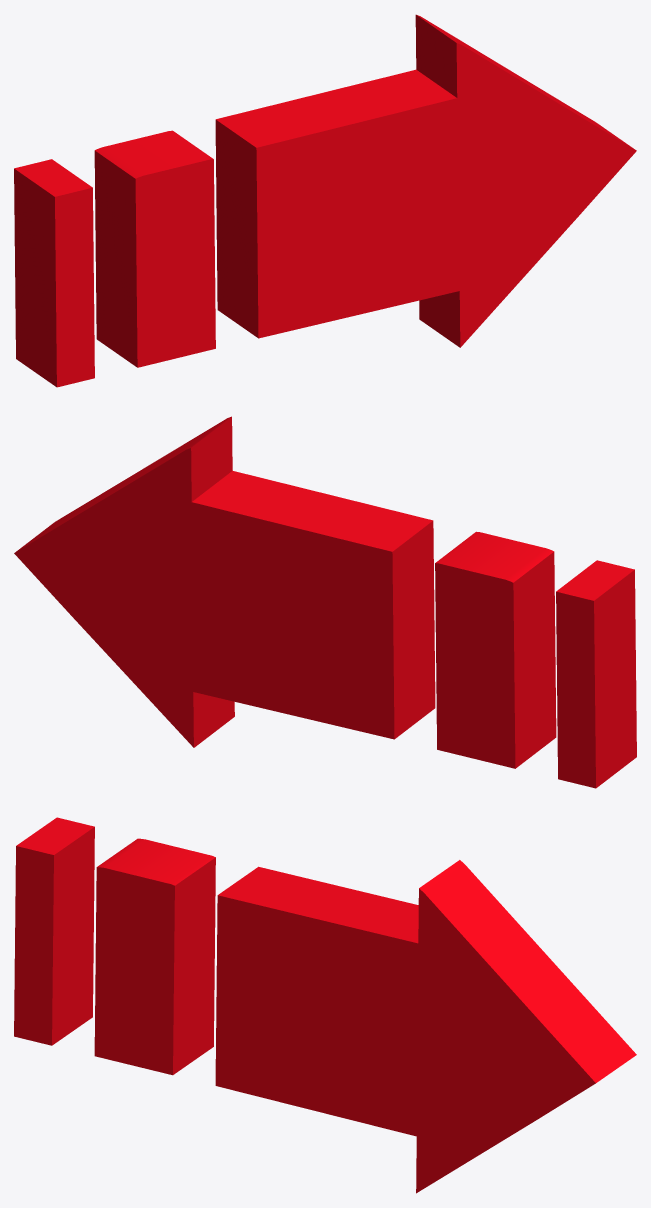
The model's file is direction_wind.glb.
3 renders of one model, top to bottom at view 1: azimuth 30°, elevation 25°; view 2: azimuth 150°, elevation 25°; view 3: azimuth 330°, elevation 25°, orthographic.
Parts seen in each view (by area): view 1: Curve_Material.002_0; view 2: Curve_Material.002_0; view 3: Curve_Material.002_0.
Part boxes in pixels (x1,y1,x2,y2): Curve_Material.002_0: (14, 14, 636, 387); Curve_Material.002_0: (14, 416, 636, 788); Curve_Material.002_0: (14, 817, 636, 1193).
Bounding box in the file's own units: 2.51 × 1.25 × 0.3304.
